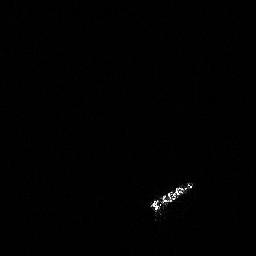ship: (147, 179, 196, 216)
